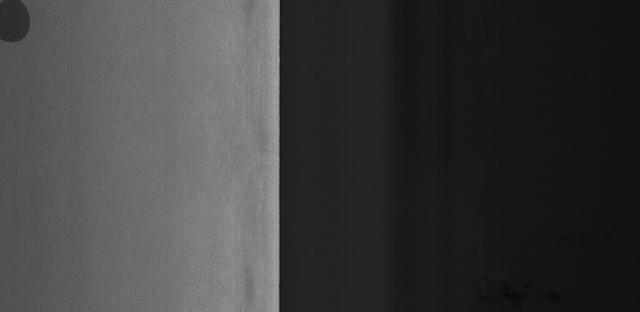oil_spot: (0, 0, 50, 54)
